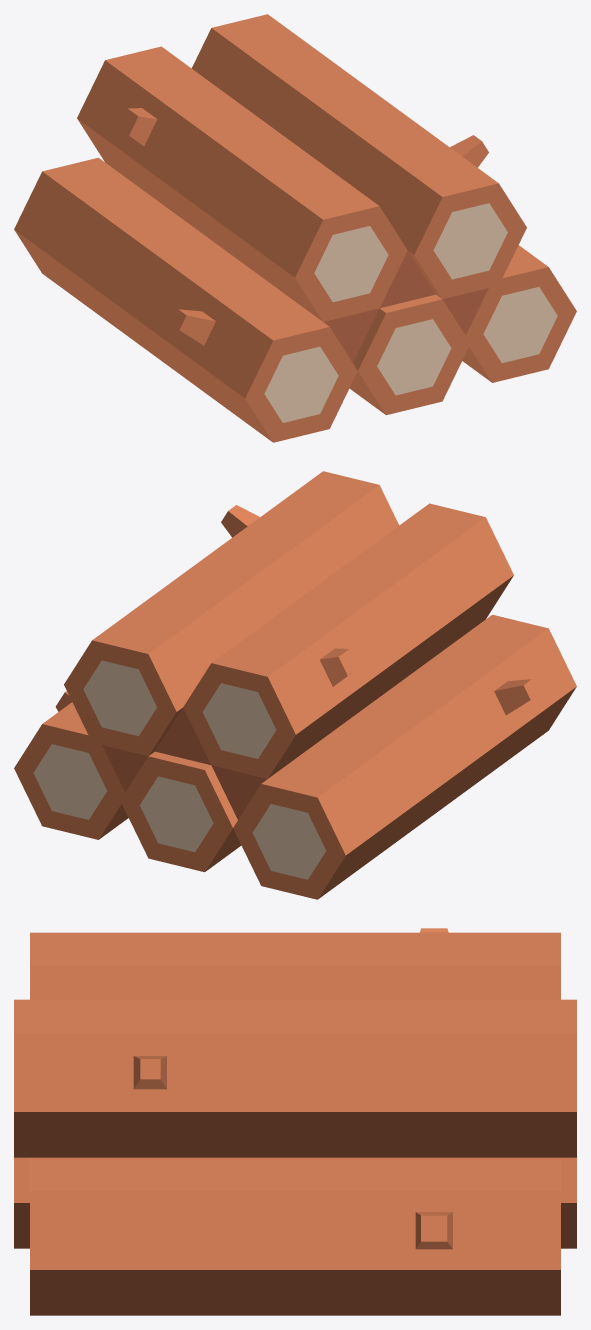
The model's file is log_stackLarge.obj.
3 views of the same model, one above another, from view 1: azimuth 30°, elevation 25°; view 2: azimuth 150°, elevation 25°; view 3: azimuth 270°, elevation 25° (orthographic). The views are drawn at different scales.
Visible parts, largest first — view 1: Mesh log_stackLarge-0, Mesh log_stackLarge-1, Mesh log_stackLarge-2; view 2: Mesh log_stackLarge-0, Mesh log_stackLarge-1, Mesh log_stackLarge-2; view 3: Mesh log_stackLarge-0.
Part boxes in pixels (x1,y1,x2,y2): Mesh log_stackLarge-0: (14,14,576,442); Mesh log_stackLarge-1: (264,203,557,422); Mesh log_stackLarge-2: (323,250,488,362); Mesh log_stackLarge-0: (14,471,576,899); Mesh log_stackLarge-1: (33,660,326,879); Mesh log_stackLarge-2: (102,707,267,819); Mesh log_stackLarge-0: (14,928,576,1315).
Size of the model in its own units: 0.634 by 0.3464 by 0.71.
